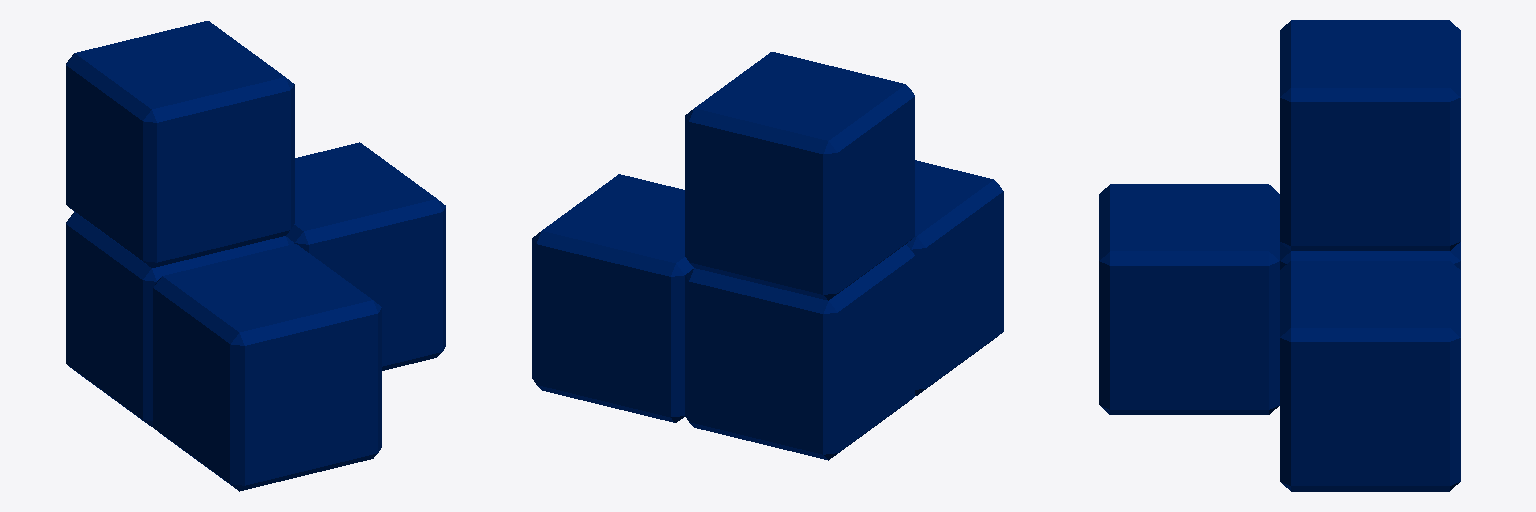
--- What the picture shows (computed from the rendered views, not written in the file) ---
The picture shows the robot from 3 angles, left to right: view 1: azimuth 30°, elevation 25°; view 2: azimuth 150°, elevation 25°; view 3: azimuth 270°, elevation 25°; orthographic projection.
Model obj_5 with 1 links and 0 joints (none), rooted at obj_5_link, posed all joints at 0.
Visible links, largest first — view 1: obj_5_link; view 2: obj_5_link; view 3: obj_5_link.
Link boxes in pixels (x1=…): obj_5_link: x1=66, y1=21, x2=445, y2=491; obj_5_link: x1=532, y1=52, x2=1003, y2=460; obj_5_link: x1=1099, y1=20, x2=1460, y2=491.
Size in the robot's own frame: 0.25 by 0.25 by 0.25 metres.
1 mesh visuals loaded from 1 distinct referenced files (1 OBJ).

The robot description file, URDF, robot "obj_5":
<robot name="obj_5" version="1.0">
  <link name="obj_5_link">
    <collision name="obj_5-collision.001">
      <origin rpy="0.00000 -0.00000 1.57080" xyz="-0.34967 0.90299 0.12700"/>
      <geometry>
        <mesh filename="../meshes/obj/obj_5-collision.001.obj" scale="1.00000 1.00000 1.00000"/>
      </geometry>
    </collision>
    <collision name="obj_5-collision.002">
      <origin rpy="0.00000 -0.00000 1.57080" xyz="-0.34967 0.77799 0.06450"/>
      <geometry>
        <mesh filename="../meshes/obj/obj_5-collision.002.obj" scale="1.00000 1.00000 1.00000"/>
      </geometry>
    </collision>
    <collision name="obj_5-collision.003">
      <origin rpy="0.00000 -0.00000 1.57080" xyz="-0.22467 0.90299 0.06450"/>
      <geometry>
        <mesh filename="../meshes/obj/obj_5-collision.003.obj" scale="1.00000 1.00000 1.00000"/>
      </geometry>
    </collision>
    <collision name="obj_5-collision.004">
      <origin rpy="2.35619 0.00000 0.00000" xyz="-0.22467 0.84424 0.00574"/>
      <geometry>
        <mesh filename="../meshes/obj/obj_5-collision.004.obj" scale="1.00000 1.00000 1.00000"/>
      </geometry>
    </collision>
    <collision name="obj_5-collision.005">
      <origin rpy="-2.35619 -0.00000 -1.57080" xyz="-0.16592 0.90299 0.00575"/>
      <geometry>
        <mesh filename="../meshes/obj/obj_5-collision.005.obj" scale="1.00000 1.00000 1.00000"/>
      </geometry>
    </collision>
    <collision name="obj_5-collision.006">
      <origin rpy="2.35619 0.00000 -3.14159" xyz="-0.22467 0.96174 0.00574"/>
      <geometry>
        <mesh filename="../meshes/obj/obj_5-collision.006.obj" scale="1.00000 1.00000 1.00000"/>
      </geometry>
    </collision>
    <collision name="obj_5-collision.007">
      <origin rpy="3.14159 -0.78540 -3.14159" xyz="-0.28342 0.90299 0.00574"/>
      <geometry>
        <mesh filename="../meshes/obj/obj_5-collision.007.obj" scale="1.00000 1.00000 1.00000"/>
      </geometry>
    </collision>
    <collision name="obj_5-collision.008">
      <origin rpy="1.57080 -0.00000 -3.14159" xyz="-0.22467 0.96549 0.06450"/>
      <geometry>
        <mesh filename="../meshes/obj/obj_5-collision.008.obj" scale="1.00000 1.00000 1.00000"/>
      </geometry>
    </collision>
    <collision name="obj_5-collision.009">
      <origin rpy="-3.14159 -1.57080 0.00000" xyz="-0.16217 0.90299 0.06449"/>
      <geometry>
        <mesh filename="../meshes/obj/obj_5-collision.009.obj" scale="1.00000 1.00000 1.00000"/>
      </geometry>
    </collision>
    <collision name="obj_5-collision.010">
      <origin rpy="1.57080 0.00000 0.00000" xyz="-0.22467 0.84049 0.06450"/>
      <geometry>
        <mesh filename="../meshes/obj/obj_5-collision.010.obj" scale="1.00000 1.00000 1.00000"/>
      </geometry>
    </collision>
    <collision name="obj_5-collision.011">
      <origin rpy="1.57080 0.00000 0.78540" xyz="-0.16592 0.84424 0.06449"/>
      <geometry>
        <mesh filename="../meshes/obj/obj_5-collision.011.obj" scale="1.00000 1.00000 1.00000"/>
      </geometry>
    </collision>
    <collision name="obj_5-collision.012">
      <origin rpy="1.57080 -0.00000 2.35619" xyz="-0.16592 0.96174 0.06449"/>
      <geometry>
        <mesh filename="../meshes/obj/obj_5-collision.012.obj" scale="1.00000 1.00000 1.00000"/>
      </geometry>
    </collision>
    <collision name="obj_5-collision.013">
      <origin rpy="1.57080 -0.00000 -2.35619" xyz="-0.28342 0.96174 0.06450"/>
      <geometry>
        <mesh filename="../meshes/obj/obj_5-collision.013.obj" scale="1.00000 1.00000 1.00000"/>
      </geometry>
    </collision>
    <collision name="obj_5-collision.014">
      <origin rpy="1.57080 0.00000 -0.78540" xyz="-0.28342 0.84424 0.06450"/>
      <geometry>
        <mesh filename="../meshes/obj/obj_5-collision.014.obj" scale="1.00000 1.00000 1.00000"/>
      </geometry>
    </collision>
    <collision name="obj_5-collision.015">
      <origin rpy="0.78540 0.00000 0.00000" xyz="-0.22467 0.84424 0.12324"/>
      <geometry>
        <mesh filename="../meshes/obj/obj_5-collision.015.obj" scale="1.00000 1.00000 1.00000"/>
      </geometry>
    </collision>
    <collision name="obj_5-collision.016">
      <origin rpy="0.00000 -0.78540 0.00000" xyz="-0.28342 0.90299 0.12324"/>
      <geometry>
        <mesh filename="../meshes/obj/obj_5-collision.016.obj" scale="1.00000 1.00000 1.00000"/>
      </geometry>
    </collision>
    <collision name="obj_5-collision.017">
      <origin rpy="0.78540 -0.00000 -3.14159" xyz="-0.22467 0.96174 0.12325"/>
      <geometry>
        <mesh filename="../meshes/obj/obj_5-collision.017.obj" scale="1.00000 1.00000 1.00000"/>
      </geometry>
    </collision>
    <collision name="obj_5-collision.018">
      <origin rpy="-0.00000 -0.78540 -3.14159" xyz="-0.16592 0.90299 0.12324"/>
      <geometry>
        <mesh filename="../meshes/obj/obj_5-collision.018.obj" scale="1.00000 1.00000 1.00000"/>
      </geometry>
    </collision>
    <collision name="obj_5-collision.019">
      <origin rpy="1.57080 -0.00000 -3.14159" xyz="-0.34967 0.96549 0.06450"/>
      <geometry>
        <mesh filename="../meshes/obj/obj_5-collision.019.obj" scale="1.00000 1.00000 1.00000"/>
      </geometry>
    </collision>
    <collision name="obj_5-collision.020">
      <origin rpy="2.35619 0.00000 -3.14159" xyz="-0.34967 0.96174 0.00575"/>
      <geometry>
        <mesh filename="../meshes/obj/obj_5-collision.020.obj" scale="1.00000 1.00000 1.00000"/>
      </geometry>
    </collision>
    <collision name="obj_5-collision.021">
      <origin rpy="-2.35619 -0.00000 -1.57080" xyz="-0.29092 0.90299 0.00575"/>
      <geometry>
        <mesh filename="../meshes/obj/obj_5-collision.021.obj" scale="1.00000 1.00000 1.00000"/>
      </geometry>
    </collision>
    <collision name="obj_5-collision.022">
      <origin rpy="2.35619 0.00000 0.00000" xyz="-0.34967 0.84424 0.00575"/>
      <geometry>
        <mesh filename="../meshes/obj/obj_5-collision.022.obj" scale="1.00000 1.00000 1.00000"/>
      </geometry>
    </collision>
    <collision name="obj_5-collision.023">
      <origin rpy="3.14159 -0.78540 -3.14159" xyz="-0.40842 0.90299 0.00574"/>
      <geometry>
        <mesh filename="../meshes/obj/obj_5-collision.023.obj" scale="1.00000 1.00000 1.00000"/>
      </geometry>
    </collision>
    <collision name="obj_5-collision.024">
      <origin rpy="1.57080 0.00000 -0.78540" xyz="-0.40842 0.84424 0.06450"/>
      <geometry>
        <mesh filename="../meshes/obj/obj_5-collision.024.obj" scale="1.00000 1.00000 1.00000"/>
      </geometry>
    </collision>
    <collision name="obj_5-collision.025">
      <origin rpy="0.00000 -1.57080 0.00000" xyz="-0.41217 0.90299 0.06450"/>
      <geometry>
        <mesh filename="../meshes/obj/obj_5-collision.025.obj" scale="1.00000 1.00000 1.00000"/>
      </geometry>
    </collision>
    <collision name="obj_5-collision.026">
      <origin rpy="1.57080 -0.00000 -2.35619" xyz="-0.40842 0.96174 0.06450"/>
      <geometry>
        <mesh filename="../meshes/obj/obj_5-collision.026.obj" scale="1.00000 1.00000 1.00000"/>
      </geometry>
    </collision>
    <collision name="obj_5-collision.027">
      <origin rpy="1.57080 -0.00000 2.35619" xyz="-0.29092 0.96174 0.06450"/>
      <geometry>
        <mesh filename="../meshes/obj/obj_5-collision.027.obj" scale="1.00000 1.00000 1.00000"/>
      </geometry>
    </collision>
    <collision name="obj_5-collision.028">
      <origin rpy="0.00000 -0.78540 0.00000" xyz="-0.40842 0.90299 0.12324"/>
      <geometry>
        <mesh filename="../meshes/obj/obj_5-collision.028.obj" scale="1.00000 1.00000 1.00000"/>
      </geometry>
    </collision>
    <collision name="obj_5-collision.029">
      <origin rpy="0.78540 -0.00000 -3.14159" xyz="-0.34967 0.96174 0.12324"/>
      <geometry>
        <mesh filename="../meshes/obj/obj_5-collision.029.obj" scale="1.00000 1.00000 1.00000"/>
      </geometry>
    </collision>
    <collision name="obj_5-collision.030">
      <origin rpy="-0.00000 -0.78540 -3.14159" xyz="-0.29092 0.90299 0.12325"/>
      <geometry>
        <mesh filename="../meshes/obj/obj_5-collision.030.obj" scale="1.00000 1.00000 1.00000"/>
      </geometry>
    </collision>
    <collision name="obj_5-collision.031">
      <origin rpy="0.78540 0.00000 0.00000" xyz="-0.34967 0.84424 0.12325"/>
      <geometry>
        <mesh filename="../meshes/obj/obj_5-collision.031.obj" scale="1.00000 1.00000 1.00000"/>
      </geometry>
    </collision>
    <collision name="obj_5-collision.032">
      <origin rpy="3.14159 -0.78540 -3.14159" xyz="-0.40842 0.90299 0.13074"/>
      <geometry>
        <mesh filename="../meshes/obj/obj_5-collision.032.obj" scale="1.00000 1.00000 1.00000"/>
      </geometry>
    </collision>
    <collision name="obj_5-collision.033">
      <origin rpy="2.35619 -0.00000 -3.14159" xyz="-0.34967 0.96174 0.13075"/>
      <geometry>
        <mesh filename="../meshes/obj/obj_5-collision.033.obj" scale="1.00000 1.00000 1.00000"/>
      </geometry>
    </collision>
    <collision name="obj_5-collision.034">
      <origin rpy="3.14159 -0.78540 0.00000" xyz="-0.29092 0.90299 0.13075"/>
      <geometry>
        <mesh filename="../meshes/obj/obj_5-collision.034.obj" scale="1.00000 1.00000 1.00000"/>
      </geometry>
    </collision>
    <collision name="obj_5-collision.035">
      <origin rpy="2.35619 0.00000 0.00000" xyz="-0.34967 0.84424 0.13075"/>
      <geometry>
        <mesh filename="../meshes/obj/obj_5-collision.035.obj" scale="1.00000 1.00000 1.00000"/>
      </geometry>
    </collision>
    <collision name="obj_5-collision.036">
      <origin rpy="0.00000 -1.57080 0.00000" xyz="-0.41217 0.90299 0.18950"/>
      <geometry>
        <mesh filename="../meshes/obj/obj_5-collision.036.obj" scale="1.00000 1.00000 1.00000"/>
      </geometry>
    </collision>
    <collision name="obj_5-collision.037">
      <origin rpy="1.57080 -0.00000 -2.35619" xyz="-0.40842 0.96174 0.18950"/>
      <geometry>
        <mesh filename="../meshes/obj/obj_5-collision.037.obj" scale="1.00000 1.00000 1.00000"/>
      </geometry>
    </collision>
    <collision name="obj_5-collision.038">
      <origin rpy="1.57080 -0.00000 -3.14159" xyz="-0.34967 0.96549 0.18950"/>
      <geometry>
        <mesh filename="../meshes/obj/obj_5-collision.038.obj" scale="1.00000 1.00000 1.00000"/>
      </geometry>
    </collision>
    <collision name="obj_5-collision.039">
      <origin rpy="1.57080 -0.00000 2.35619" xyz="-0.29092 0.96174 0.18950"/>
      <geometry>
        <mesh filename="../meshes/obj/obj_5-collision.039.obj" scale="1.00000 1.00000 1.00000"/>
      </geometry>
    </collision>
    <collision name="obj_5-collision.040">
      <origin rpy="-3.14159 -1.57080 0.00000" xyz="-0.28717 0.90299 0.18950"/>
      <geometry>
        <mesh filename="../meshes/obj/obj_5-collision.040.obj" scale="1.00000 1.00000 1.00000"/>
      </geometry>
    </collision>
    <collision name="obj_5-collision.041">
      <origin rpy="1.57080 0.00000 0.78540" xyz="-0.29092 0.84424 0.18950"/>
      <geometry>
        <mesh filename="../meshes/obj/obj_5-collision.041.obj" scale="1.00000 1.00000 1.00000"/>
      </geometry>
    </collision>
    <collision name="obj_5-collision.042">
      <origin rpy="1.57080 0.00000 0.00000" xyz="-0.34967 0.84049 0.18950"/>
      <geometry>
        <mesh filename="../meshes/obj/obj_5-collision.042.obj" scale="1.00000 1.00000 1.00000"/>
      </geometry>
    </collision>
    <collision name="obj_5-collision.043">
      <origin rpy="1.57080 0.00000 -0.78540" xyz="-0.40842 0.84424 0.18950"/>
      <geometry>
        <mesh filename="../meshes/obj/obj_5-collision.043.obj" scale="1.00000 1.00000 1.00000"/>
      </geometry>
    </collision>
    <collision name="obj_5-collision.044">
      <origin rpy="0.78540 -0.00000 -3.14159" xyz="-0.34967 0.96174 0.24824"/>
      <geometry>
        <mesh filename="../meshes/obj/obj_5-collision.044.obj" scale="1.00000 1.00000 1.00000"/>
      </geometry>
    </collision>
    <collision name="obj_5-collision.045">
      <origin rpy="-0.00000 -0.78540 -3.14159" xyz="-0.29092 0.90299 0.24825"/>
      <geometry>
        <mesh filename="../meshes/obj/obj_5-collision.045.obj" scale="1.00000 1.00000 1.00000"/>
      </geometry>
    </collision>
    <collision name="obj_5-collision.046">
      <origin rpy="0.78540 -0.00000 0.00000" xyz="-0.34967 0.84424 0.24824"/>
      <geometry>
        <mesh filename="../meshes/obj/obj_5-collision.046.obj" scale="1.00000 1.00000 1.00000"/>
      </geometry>
    </collision>
    <collision name="obj_5-collision.047">
      <origin rpy="0.00000 -0.78540 0.00000" xyz="-0.40842 0.90299 0.24824"/>
      <geometry>
        <mesh filename="../meshes/obj/obj_5-collision.047.obj" scale="1.00000 1.00000 1.00000"/>
      </geometry>
    </collision>
    <collision name="obj_5-collision.048">
      <origin rpy="3.14159 -0.78540 0.00000" xyz="-0.29092 0.77799 0.00575"/>
      <geometry>
        <mesh filename="../meshes/obj/obj_5-collision.048.obj" scale="1.00000 1.00000 1.00000"/>
      </geometry>
    </collision>
    <collision name="obj_5-collision.049">
      <origin rpy="2.35619 0.00000 0.00000" xyz="-0.34967 0.71924 0.00575"/>
      <geometry>
        <mesh filename="../meshes/obj/obj_5-collision.049.obj" scale="1.00000 1.00000 1.00000"/>
      </geometry>
    </collision>
    <collision name="obj_5-collision.050">
      <origin rpy="3.14159 -0.78540 -3.14159" xyz="-0.40842 0.77799 0.00574"/>
      <geometry>
        <mesh filename="../meshes/obj/obj_5-collision.050.obj" scale="1.00000 1.00000 1.00000"/>
      </geometry>
    </collision>
    <collision name="obj_5-collision.051">
      <origin rpy="2.35619 0.00000 -3.14159" xyz="-0.34967 0.83674 0.00575"/>
      <geometry>
        <mesh filename="../meshes/obj/obj_5-collision.051.obj" scale="1.00000 1.00000 1.00000"/>
      </geometry>
    </collision>
    <collision name="obj_5-collision.052">
      <origin rpy="-3.14159 -1.57080 0.00000" xyz="-0.28717 0.77799 0.06450"/>
      <geometry>
        <mesh filename="../meshes/obj/obj_5-collision.052.obj" scale="1.00000 1.00000 1.00000"/>
      </geometry>
    </collision>
    <collision name="obj_5-collision.053">
      <origin rpy="1.57080 -0.00000 2.35619" xyz="-0.29092 0.83674 0.06450"/>
      <geometry>
        <mesh filename="../meshes/obj/obj_5-collision.053.obj" scale="1.00000 1.00000 1.00000"/>
      </geometry>
    </collision>
    <collision name="obj_5-collision.054">
      <origin rpy="1.57080 0.00000 0.78540" xyz="-0.29092 0.71924 0.06450"/>
      <geometry>
        <mesh filename="../meshes/obj/obj_5-collision.054.obj" scale="1.00000 1.00000 1.00000"/>
      </geometry>
    </collision>
    <collision name="obj_5-collision.055">
      <origin rpy="1.57080 1.57080 -0.00000" xyz="-0.34967 0.71549 0.06450"/>
      <geometry>
        <mesh filename="../meshes/obj/obj_5-collision.055.obj" scale="1.00000 1.00000 1.00000"/>
      </geometry>
    </collision>
    <collision name="obj_5-collision.056">
      <origin rpy="1.57080 0.00000 -0.78540" xyz="-0.40842 0.71924 0.06450"/>
      <geometry>
        <mesh filename="../meshes/obj/obj_5-collision.056.obj" scale="1.00000 1.00000 1.00000"/>
      </geometry>
    </collision>
    <collision name="obj_5-collision.057">
      <origin rpy="0.00000 -1.57080 0.00000" xyz="-0.41217 0.77799 0.06450"/>
      <geometry>
        <mesh filename="../meshes/obj/obj_5-collision.057.obj" scale="1.00000 1.00000 1.00000"/>
      </geometry>
    </collision>
    <collision name="obj_5-collision.058">
      <origin rpy="1.57080 -0.00000 -2.35619" xyz="-0.40842 0.83674 0.06450"/>
      <geometry>
        <mesh filename="../meshes/obj/obj_5-collision.058.obj" scale="1.00000 1.00000 1.00000"/>
      </geometry>
    </collision>
    <collision name="obj_5-collision.059">
      <origin rpy="0.00000 -0.78540 0.00000" xyz="-0.40842 0.77799 0.12324"/>
      <geometry>
        <mesh filename="../meshes/obj/obj_5-collision.059.obj" scale="1.00000 1.00000 1.00000"/>
      </geometry>
    </collision>
    <collision name="obj_5-collision.060">
      <origin rpy="-0.78540 -0.00000 -3.14159" xyz="-0.34967 0.71924 0.12324"/>
      <geometry>
        <mesh filename="../meshes/obj/obj_5-collision.060.obj" scale="1.00000 1.00000 1.00000"/>
      </geometry>
    </collision>
    <collision name="obj_5-collision.061">
      <origin rpy="-0.00000 -0.78540 -3.14159" xyz="-0.29092 0.77799 0.12325"/>
      <geometry>
        <mesh filename="../meshes/obj/obj_5-collision.061.obj" scale="1.00000 1.00000 1.00000"/>
      </geometry>
    </collision>
    <collision name="obj_5-collision.062">
      <origin rpy="0.78540 -0.00000 -3.14159" xyz="-0.34967 0.83674 0.12324"/>
      <geometry>
        <mesh filename="../meshes/obj/obj_5-collision.062.obj" scale="1.00000 1.00000 1.00000"/>
      </geometry>
    </collision>
    <collision name="obj_5-collision.063">
      <origin rpy="0.00000 -0.00000 -1.57080" xyz="-0.31693 0.87025 0.09723"/>
      <geometry>
        <mesh filename="../meshes/obj/obj_5-collision.063.obj" scale="0.00500 0.00500 0.00500"/>
      </geometry>
    </collision>
    <collision name="obj_5-collision.064">
      <origin rpy="0.00000 -0.00000 -1.57080" xyz="-0.31693 0.87025 0.09723"/>
      <geometry>
        <mesh filename="../meshes/obj/obj_5-collision.064.obj" scale="0.00500 0.00500 0.00500"/>
      </geometry>
    </collision>
    <collision name="obj_5-collision.065">
      <origin rpy="0.00000 -0.00000 -1.57080" xyz="-0.31693 0.87025 0.09723"/>
      <geometry>
        <mesh filename="../meshes/obj/obj_5-collision.065.obj" scale="0.00500 0.00500 0.00500"/>
      </geometry>
    </collision>
    <collision name="obj_5-collision.066">
      <origin rpy="0.00000 -0.00000 -1.57080" xyz="-0.31693 0.87025 0.09723"/>
      <geometry>
        <mesh filename="../meshes/obj/obj_5-collision.066.obj" scale="0.00500 0.00500 0.00500"/>
      </geometry>
    </collision>
    <collision name="obj_5-collision.067">
      <origin rpy="0.00000 -0.00000 -1.57080" xyz="-0.31693 0.87025 0.09723"/>
      <geometry>
        <mesh filename="../meshes/obj/obj_5-collision.067.obj" scale="0.00500 0.00500 0.00500"/>
      </geometry>
    </collision>
    <collision name="obj_5-collision.068">
      <origin rpy="0.00000 -0.00000 -1.57080" xyz="-0.31693 0.87025 0.09723"/>
      <geometry>
        <mesh filename="../meshes/obj/obj_5-collision.068.obj" scale="0.00500 0.00500 0.00500"/>
      </geometry>
    </collision>
    <collision name="obj_5-collision.069">
      <origin rpy="0.00000 -0.00000 -1.57080" xyz="-0.31693 0.87025 0.09723"/>
      <geometry>
        <mesh filename="../meshes/obj/obj_5-collision.069.obj" scale="0.00500 0.00500 0.00500"/>
      </geometry>
    </collision>
    <collision name="obj_5-collision.070">
      <origin rpy="0.00000 -0.00000 -1.57080" xyz="-0.31693 0.87025 0.09723"/>
      <geometry>
        <mesh filename="../meshes/obj/obj_5-collision.070.obj" scale="0.00500 0.00500 0.00500"/>
      </geometry>
    </collision>
    <collision name="obj_5-collision.071">
      <origin rpy="0.00000 -0.00000 -1.57080" xyz="-0.31693 0.87025 0.09723"/>
      <geometry>
        <mesh filename="../meshes/obj/obj_5-collision.071.obj" scale="0.00500 0.00500 0.00500"/>
      </geometry>
    </collision>
    <collision name="obj_5-collision.072">
      <origin rpy="0.00000 -0.00000 -1.57080" xyz="-0.31693 0.87025 0.09723"/>
      <geometry>
        <mesh filename="../meshes/obj/obj_5-collision.072.obj" scale="0.00500 0.00500 0.00500"/>
      </geometry>
    </collision>
    <collision name="obj_5-collision.073">
      <origin rpy="0.00000 -0.00000 -1.57080" xyz="-0.31693 0.87025 0.09723"/>
      <geometry>
        <mesh filename="../meshes/obj/obj_5-collision.073.obj" scale="0.00500 0.00500 0.00500"/>
      </geometry>
    </collision>
    <collision name="obj_5-collision.074">
      <origin rpy="0.00000 -0.00000 -1.57080" xyz="-0.31693 0.87025 0.09723"/>
      <geometry>
        <mesh filename="../meshes/obj/obj_5-collision.074.obj" scale="0.00500 0.00500 0.00500"/>
      </geometry>
    </collision>
    <collision name="obj_5-collision.075">
      <origin rpy="0.00000 -0.00000 -1.57080" xyz="-0.31693 0.87025 0.09723"/>
      <geometry>
        <mesh filename="../meshes/obj/obj_5-collision.075.obj" scale="0.00500 0.00500 0.00500"/>
      </geometry>
    </collision>
    <collision name="obj_5-collision.076">
      <origin rpy="0.00000 -0.00000 -1.57080" xyz="-0.31693 0.87025 0.09723"/>
      <geometry>
        <mesh filename="../meshes/obj/obj_5-collision.076.obj" scale="0.00500 0.00500 0.00500"/>
      </geometry>
    </collision>
    <collision name="obj_5-collision.077">
      <origin rpy="0.00000 -0.00000 -1.57080" xyz="-0.31693 0.87025 0.09723"/>
      <geometry>
        <mesh filename="../meshes/obj/obj_5-collision.077.obj" scale="0.00500 0.00500 0.00500"/>
      </geometry>
    </collision>
    <collision name="obj_5-collision.078">
      <origin rpy="0.00000 -0.00000 -1.57080" xyz="-0.31693 0.87025 0.09723"/>
      <geometry>
        <mesh filename="../meshes/obj/obj_5-collision.078.obj" scale="0.00500 0.00500 0.00500"/>
      </geometry>
    </collision>
    <collision name="obj_5-collision.079">
      <origin rpy="0.00000 -0.00000 -1.57080" xyz="-0.31693 0.87025 0.09723"/>
      <geometry>
        <mesh filename="../meshes/obj/obj_5-collision.079.obj" scale="0.00500 0.00500 0.00500"/>
      </geometry>
    </collision>
    <collision name="obj_5-collision.080">
      <origin rpy="0.00000 -0.00000 -1.57080" xyz="-0.31693 0.87025 0.09723"/>
      <geometry>
        <mesh filename="../meshes/obj/obj_5-collision.080.obj" scale="0.00500 0.00500 0.00500"/>
      </geometry>
    </collision>
    <collision name="obj_5-collision.081">
      <origin rpy="0.00000 -0.00000 -1.57080" xyz="-0.31693 0.87025 0.09723"/>
      <geometry>
        <mesh filename="../meshes/obj/obj_5-collision.081.obj" scale="0.00500 0.00500 0.00500"/>
      </geometry>
    </collision>
    <collision name="obj_5-collision.082">
      <origin rpy="0.00000 -0.00000 -1.57080" xyz="-0.31693 0.87025 0.09723"/>
      <geometry>
        <mesh filename="../meshes/obj/obj_5-collision.082.obj" scale="0.00500 0.00500 0.00500"/>
      </geometry>
    </collision>
    <collision name="obj_5-collision.083">
      <origin rpy="0.00000 -0.00000 -1.57080" xyz="-0.31693 0.87025 0.09723"/>
      <geometry>
        <mesh filename="../meshes/obj/obj_5-collision.083.obj" scale="0.00500 0.00500 0.00500"/>
      </geometry>
    </collision>
    <collision name="obj_5-collision.084">
      <origin rpy="0.00000 -0.00000 -1.57080" xyz="-0.31693 0.87025 0.09723"/>
      <geometry>
        <mesh filename="../meshes/obj/obj_5-collision.084.obj" scale="0.00500 0.00500 0.00500"/>
      </geometry>
    </collision>
    <collision name="obj_5-collision.085">
      <origin rpy="0.00000 -0.00000 -1.57080" xyz="-0.31693 0.87025 0.09723"/>
      <geometry>
        <mesh filename="../meshes/obj/obj_5-collision.085.obj" scale="0.00500 0.00500 0.00500"/>
      </geometry>
    </collision>
    <collision name="obj_5-collision.086">
      <origin rpy="0.00000 -0.00000 -1.57080" xyz="-0.31693 0.87025 0.09723"/>
      <geometry>
        <mesh filename="../meshes/obj/obj_5-collision.086.obj" scale="0.00500 0.00500 0.00500"/>
      </geometry>
    </collision>
    <collision name="obj_5-collision.087">
      <origin rpy="0.00000 -0.00000 -1.57080" xyz="-0.31693 0.87025 0.09723"/>
      <geometry>
        <mesh filename="../meshes/obj/obj_5-collision.087.obj" scale="0.00500 0.00500 0.00500"/>
      </geometry>
    </collision>
    <collision name="obj_5-collision.088">
      <origin rpy="0.00000 -0.00000 -1.57080" xyz="-0.31693 0.87025 0.09723"/>
      <geometry>
        <mesh filename="../meshes/obj/obj_5-collision.088.obj" scale="0.00500 0.00500 0.00500"/>
      </geometry>
    </collision>
    <collision name="obj_5-collision.089">
      <origin rpy="0.00000 -0.00000 -1.57080" xyz="-0.31693 0.87025 0.09723"/>
      <geometry>
        <mesh filename="../meshes/obj/obj_5-collision.089.obj" scale="0.00500 0.00500 0.00500"/>
      </geometry>
    </collision>
    <collision name="obj_5-collision.090">
      <origin rpy="0.00000 -0.00000 -1.57080" xyz="-0.31693 0.87025 0.09723"/>
      <geometry>
        <mesh filename="../meshes/obj/obj_5-collision.090.obj" scale="0.00500 0.00500 0.00500"/>
      </geometry>
    </collision>
    <collision name="obj_5-collision.091">
      <origin rpy="0.00000 -0.00000 -1.57080" xyz="-0.31693 0.87025 0.09723"/>
      <geometry>
        <mesh filename="../meshes/obj/obj_5-collision.091.obj" scale="0.00500 0.00500 0.00500"/>
      </geometry>
    </collision>
    <collision name="obj_5-collision.092">
      <origin rpy="0.00000 -0.00000 -1.57080" xyz="-0.31693 0.87025 0.09723"/>
      <geometry>
        <mesh filename="../meshes/obj/obj_5-collision.092.obj" scale="0.00500 0.00500 0.00500"/>
      </geometry>
    </collision>
    <collision name="obj_5-collision.093">
      <origin rpy="0.00000 -0.00000 -1.57080" xyz="-0.31693 0.87025 0.09723"/>
      <geometry>
        <mesh filename="../meshes/obj/obj_5-collision.093.obj" scale="0.00500 0.00500 0.00500"/>
      </geometry>
    </collision>
    <collision name="obj_5-collision.094">
      <origin rpy="0.00000 -0.00000 -1.57080" xyz="-0.31693 0.87025 0.09723"/>
      <geometry>
        <mesh filename="../meshes/obj/obj_5-collision.094.obj" scale="0.00500 0.00500 0.00500"/>
      </geometry>
    </collision>
    <collision name="obj_5-collision.095">
      <origin rpy="1.57080 0.00000 0.78540" xyz="-0.29092 0.84424 0.06450"/>
      <geometry>
        <mesh filename="../meshes/obj/obj_5-collision.095.obj" scale="1.00000 1.00000 1.00000"/>
      </geometry>
    </collision>
    <inertial>
      <inertia ixx="0.00042" ixy="-0.00005" ixz="0.00005" iyy="0.00042" iyz="-0.00005" izz="0.00042"/>
      <origin rpy="0.00000 0.00000 0.00000" xyz="-0.31842 0.87174 0.09575"/>
      <mass value="0.05000"/>
    </inertial>
    <visual name="obj_5">
      <material name="turnarrow_blue"/>
      <origin rpy="0.00000 -0.00000 -1.57080" xyz="-0.31693 0.87025 0.09723"/>
      <geometry>
        <mesh filename="../meshes/obj/bt_cube3x3_bricks.004.obj" scale="0.00500 0.00500 0.00500"/>
      </geometry>
    </visual>
  </link>
  <material name="turnarrow_blue">
    <color rgba="0.00000 0.16471 0.44314 1.00000"/>
  </material>
</robot>
